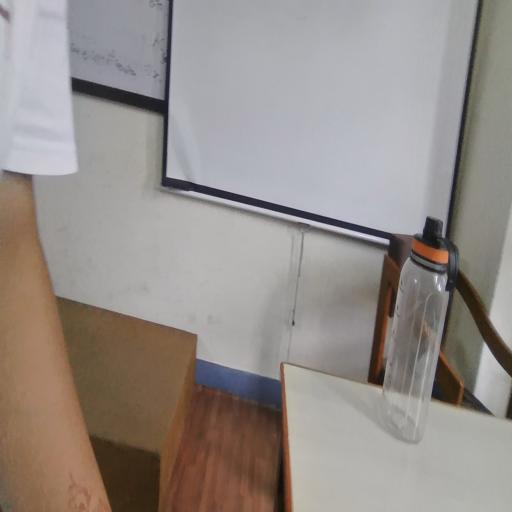Bottle: (397, 220, 443, 454)
